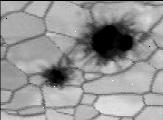good_void: (76, 16, 138, 66), (41, 52, 74, 87)
